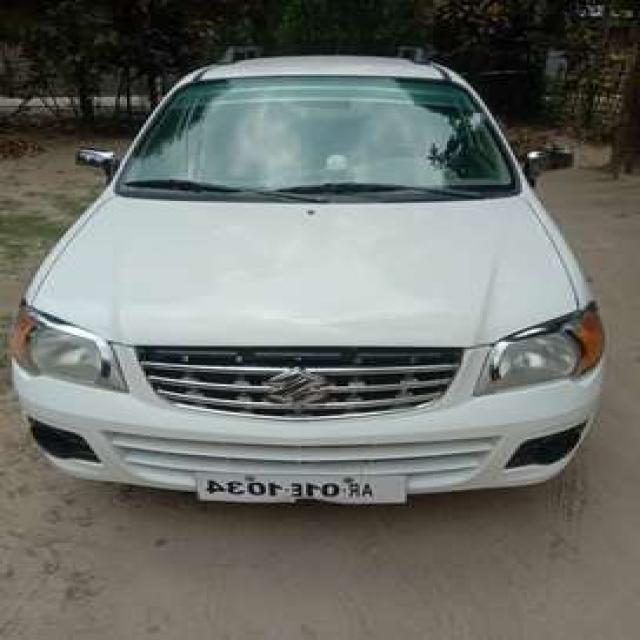license_plate: (182, 466, 414, 510)
